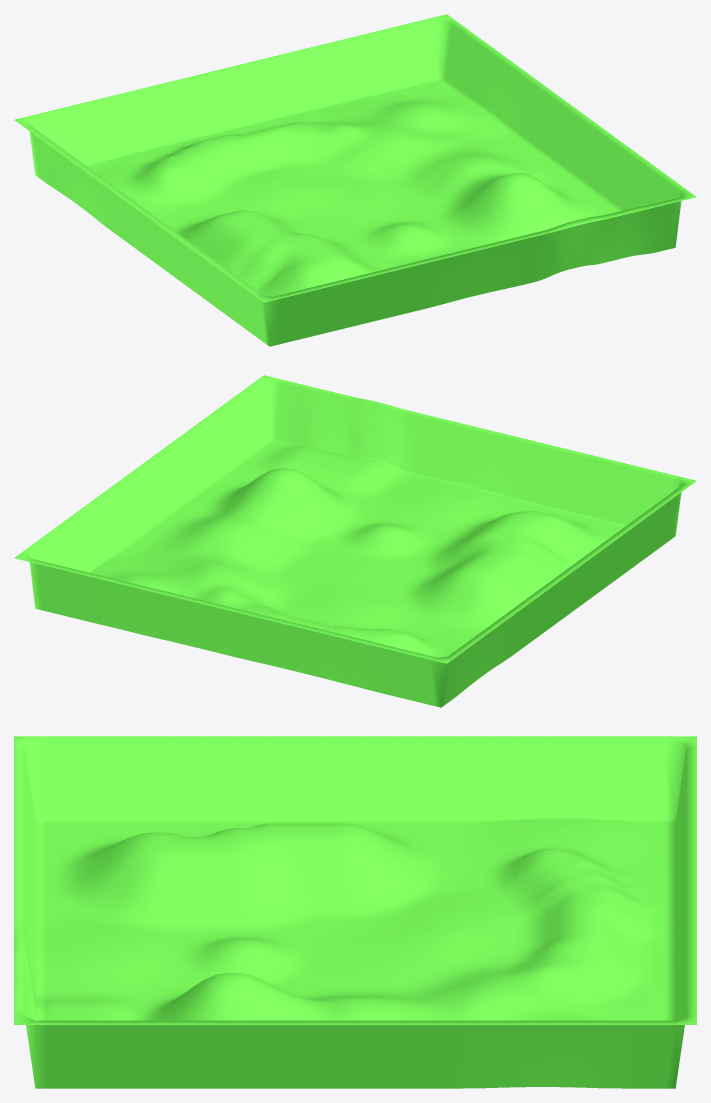
Rendered from terrain1.gltf.
3 renders of one model, top to bottom at view 1: azimuth 30°, elevation 25°; view 2: azimuth 150°, elevation 25°; view 3: azimuth 270°, elevation 25°, orthographic. The views are drawn at different scales.
Parts seen in each view (by area): view 1: Terrain1; view 2: Terrain1; view 3: Terrain1.
Boxes of the visible parts, x1,y1,x2,y2 form: Terrain1: [14, 14, 696, 346]; Terrain1: [14, 375, 696, 707]; Terrain1: [14, 736, 696, 1088].
Size of the model in its own units: 200 by 24.41 by 200.
